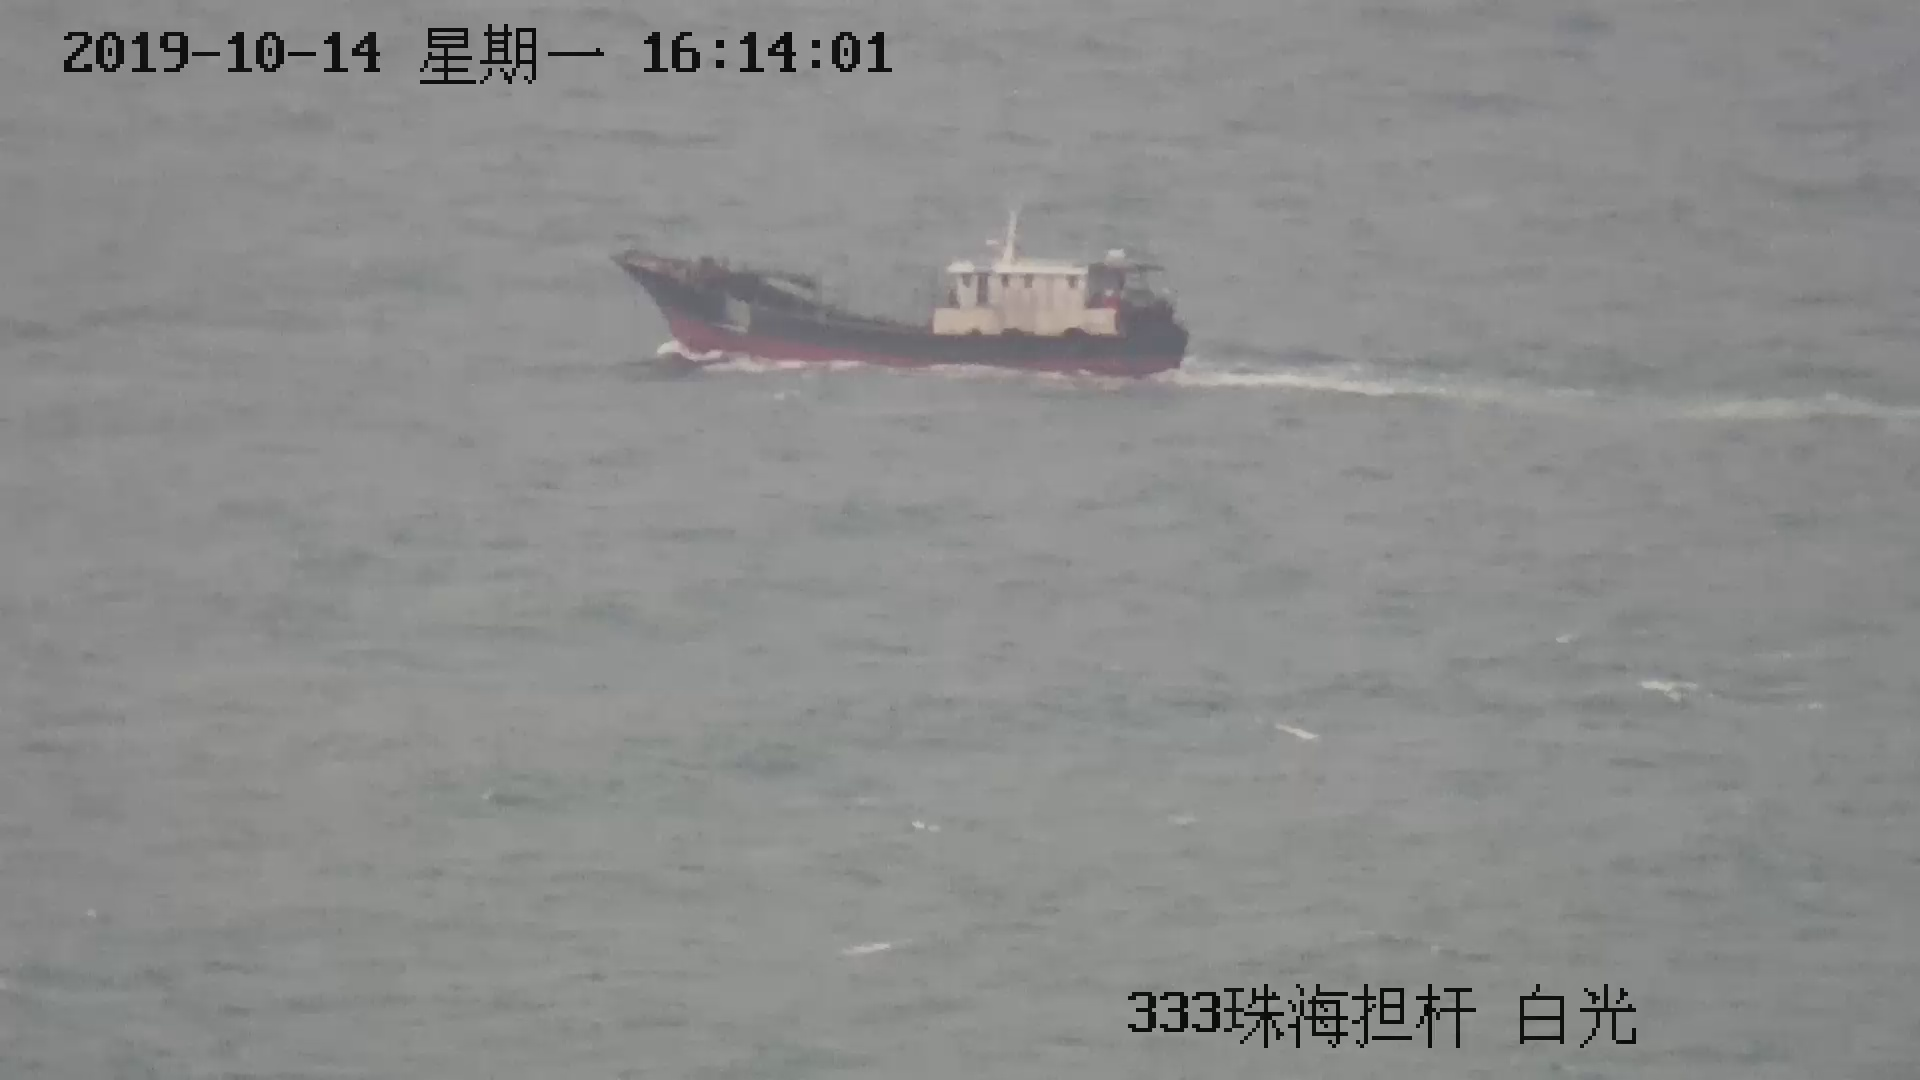ship: (616, 196, 1197, 375)
